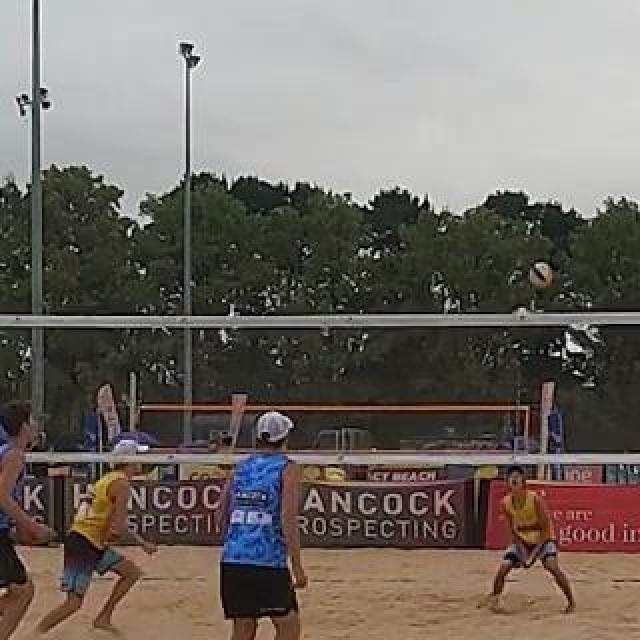volleyball: (529, 263, 553, 287)
